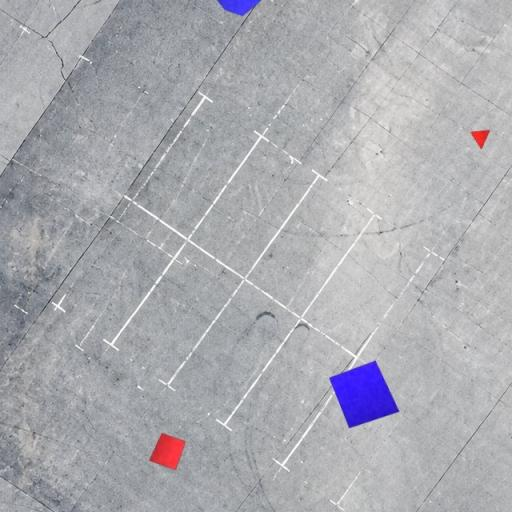BLUE_SQUARE: (329, 360, 400, 429)
RED_SQUARE: (148, 433, 186, 470)
